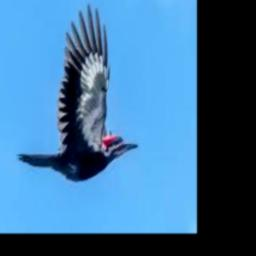Woodpecker: (16, 3, 139, 181)
